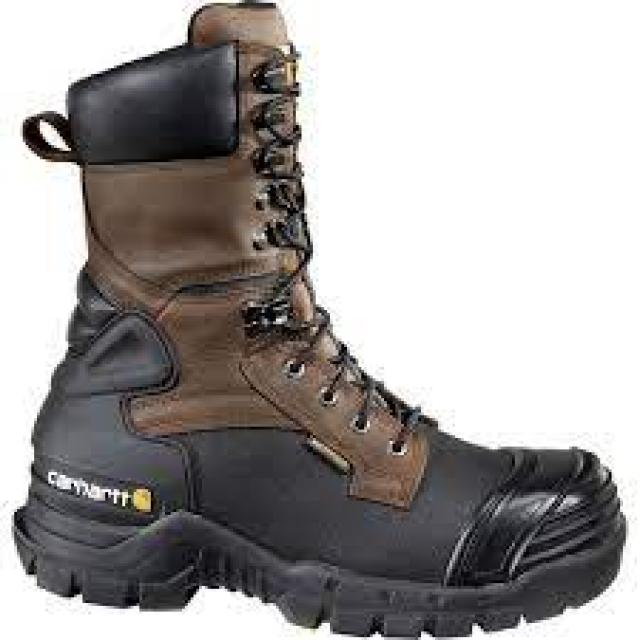shoes: (15, 0, 625, 638)
